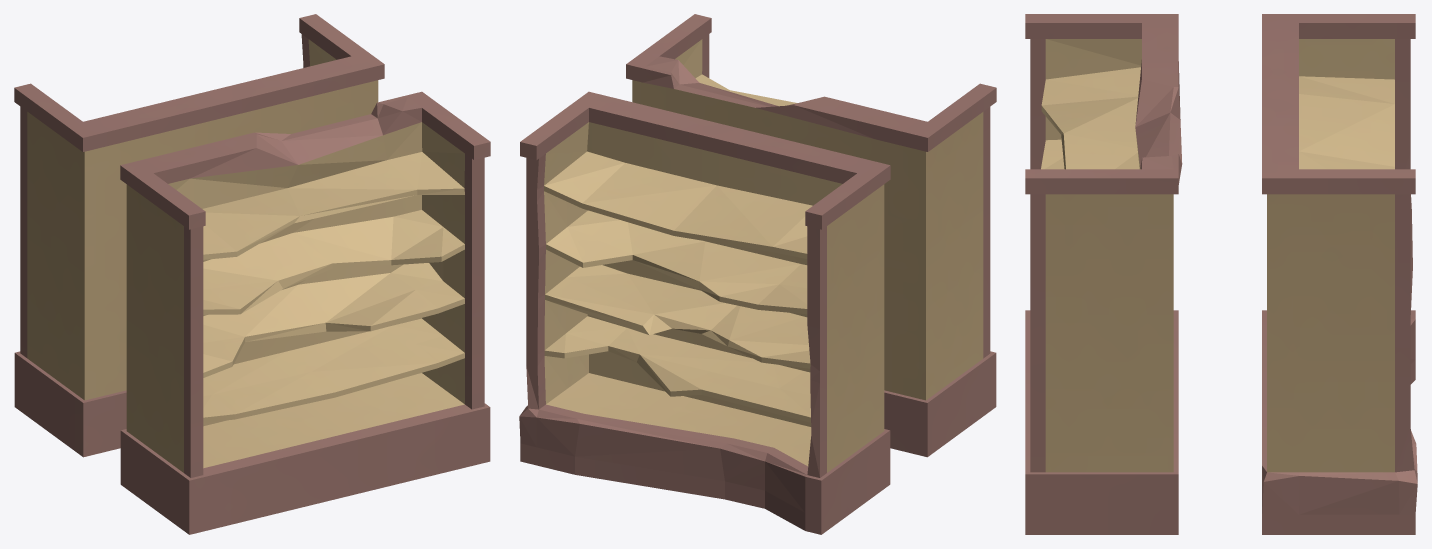
Rendered from shelf_3_D.obj.
3 views of the same model, side by side, from view 1: azimuth 30°, elevation 25°; view 2: azimuth 150°, elevation 25°; view 3: azimuth 270°, elevation 25° (orthographic). The views are drawn at different scales.
Visible parts, largest first — view 1: shelf_3_D_Mesh; view 2: shelf_3_D_Mesh; view 3: shelf_3_D_Mesh.
Boxes of the visible parts, box(x1,y1,x2,y2) form: shelf_3_D_Mesh: box(14, 14, 490, 534); shelf_3_D_Mesh: box(519, 14, 996, 534); shelf_3_D_Mesh: box(1025, 14, 1417, 534).
Bounding box in the file's own units: 1.21 × 1.22 × 1.21.
